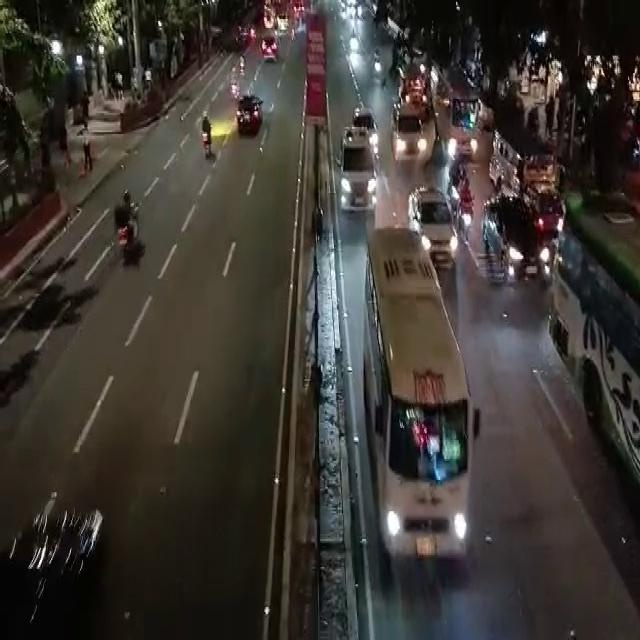bus: (1, 184, 639, 507), (371, 254, 463, 568), (442, 75, 480, 161)
car: (482, 212, 544, 283), (334, 134, 379, 216), (418, 190, 455, 268), (390, 101, 425, 164), (235, 87, 265, 136), (261, 34, 280, 66)
jeepney: (489, 130, 563, 224), (398, 64, 428, 108)
motorcycle: (117, 189, 138, 268), (456, 178, 472, 240), (200, 114, 213, 158), (229, 64, 238, 99), (238, 46, 247, 80), (373, 51, 380, 78)
